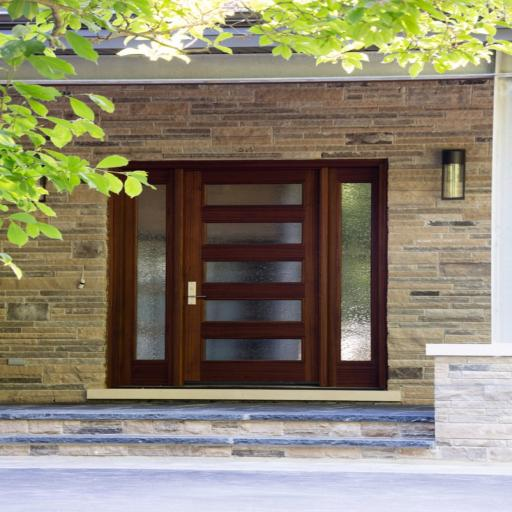Door: (106, 159, 389, 390)
Stairs: (0, 400, 437, 460)
